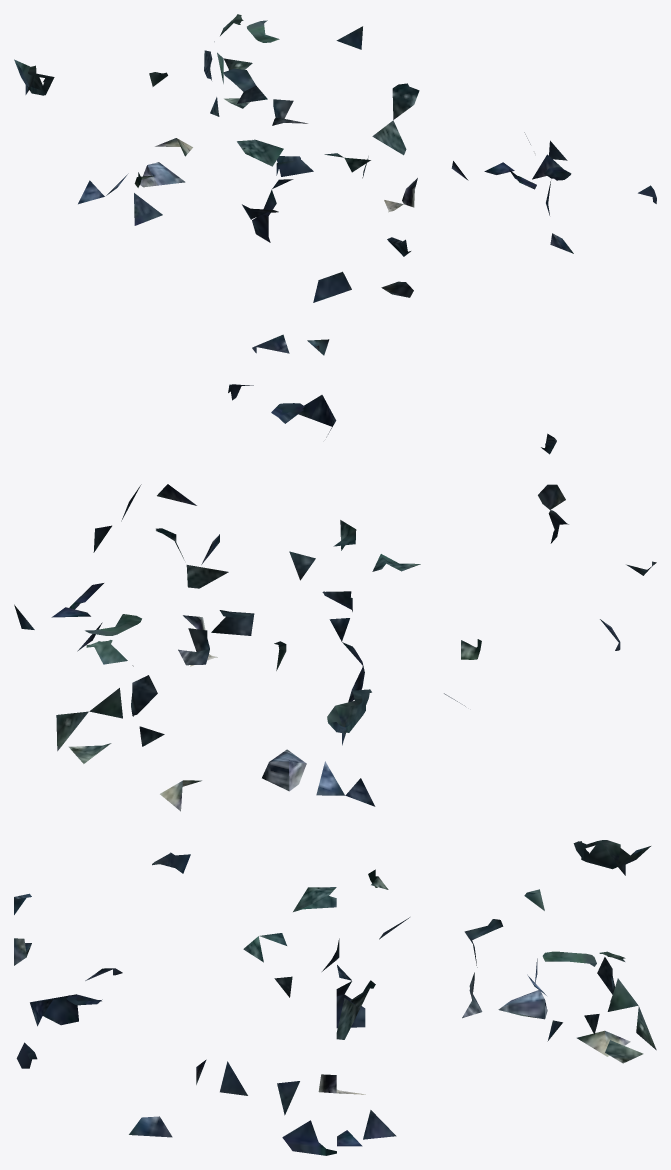
The picture shows the model from 3 angles, top to bottom: view 1: azimuth 30°, elevation 25°; view 2: azimuth 150°, elevation 25°; view 3: azimuth 270°, elevation 25°; orthographic projection. The views are drawn at different scales.
Parts seen in each view (by area): view 1: 30436272704361516512_1; view 2: 30436272704361516512_1; view 3: 30436272704361516512_1.
Part boxes in pixels (x1=…): 30436272704361516512_1: x1=14, y1=14, x2=656, y2=355; 30436272704361516512_1: x1=14, y1=384, x2=656, y2=811; 30436272704361516512_1: x1=14, y1=840, x2=656, y2=1155.
Bounding box in the file's own units: 27.78 × 8.78 × 38.1.
Materials: 1 (1 with a texture image).
